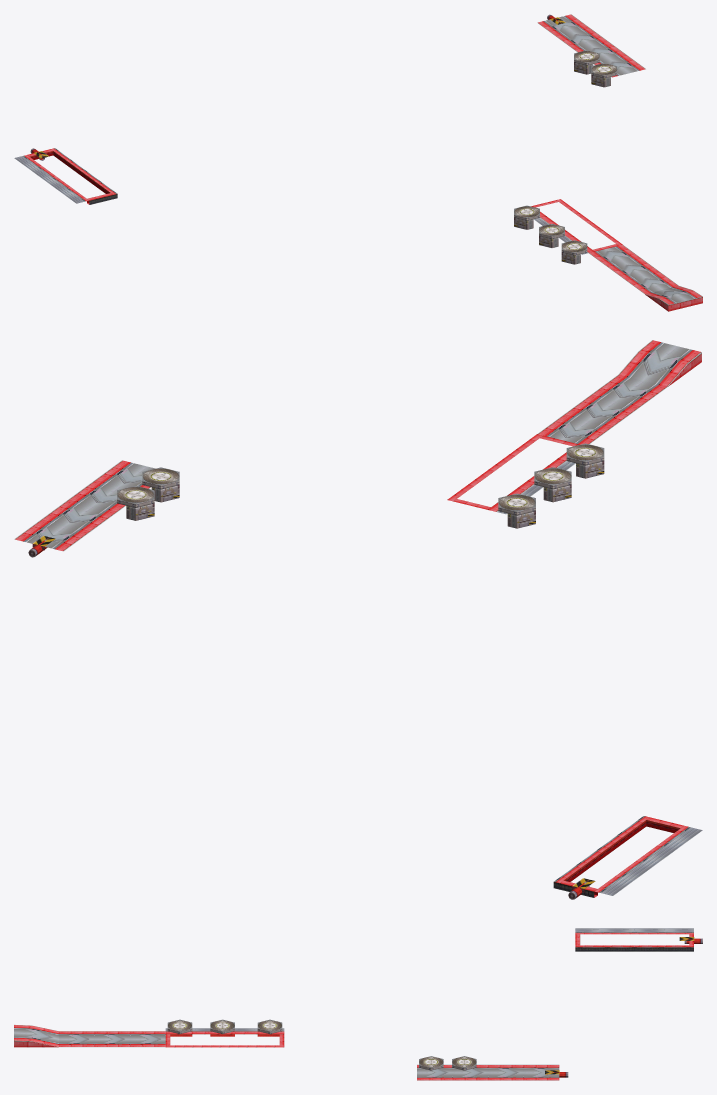
The model's file is S13_ONS_11.OBJ.
The picture shows the model from 3 angles, top to bottom: view 1: azimuth 30°, elevation 25°; view 2: azimuth 150°, elevation 25°; view 3: azimuth 270°, elevation 25°; orthographic projection. The views are drawn at different scales.
Visible parts, largest first — view 1: s13_ons_11_0, s13_ons_11_11, s13_ons_11_10, s13_ons_11_8; view 2: s13_ons_11_0, s13_ons_11_11, s13_ons_11_10, s13_ons_11_8, s13_ons_11_9; view 3: s13_ons_11_0, s13_ons_11_11, s13_ons_11_8, s13_ons_11_1, s13_ons_11_9, s13_ons_11_3.
Boxes of the visible parts, x1=… form: s13_ons_11_0: x1=23, y1=14, x2=702, y2=311; s13_ons_11_11: x1=514, y1=50, x2=617, y2=252; s13_ons_11_10: x1=514, y1=62, x2=610, y2=264; s13_ons_11_8: x1=14, y1=156, x2=587, y2=254; s13_ons_11_0: x1=14, y1=340, x2=701, y2=897; s13_ons_11_11: x1=117, y1=443, x2=604, y2=511; s13_ons_11_10: x1=126, y1=461, x2=604, y2=528; s13_ons_11_8: x1=497, y1=461, x2=702, y2=895; s13_ons_11_9: x1=117, y1=457, x2=604, y2=515; s13_ons_11_0: x1=14, y1=932, x2=693, y2=1080; s13_ons_11_11: x1=167, y1=1019, x2=476, y2=1067; s13_ons_11_8: x1=165, y1=928, x2=693, y2=1031; s13_ons_11_1: x1=575, y1=947, x2=693, y2=951; s13_ons_11_9: x1=167, y1=1028, x2=476, y2=1070; s13_ons_11_3: x1=170, y1=938, x2=702, y2=1077.
Size of the model in its own units: 1125 by 187 by 1453.
Materials: 12 (12 with a texture image).
